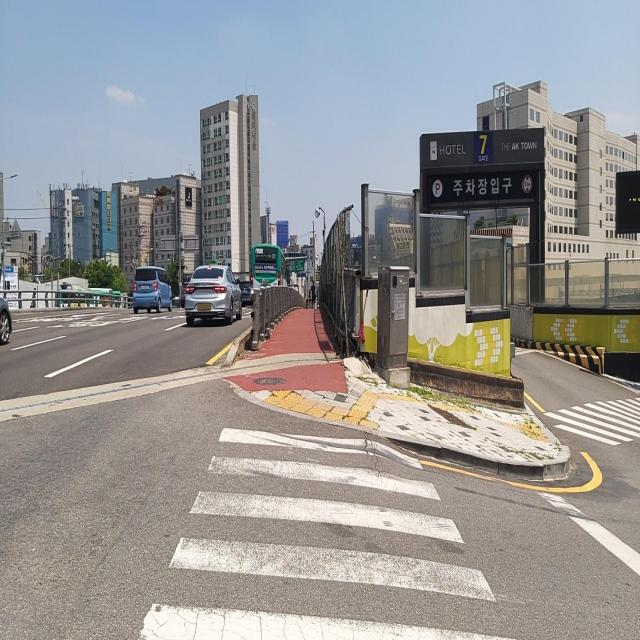횡단보도: (133, 422, 522, 640), (531, 374, 640, 454)
